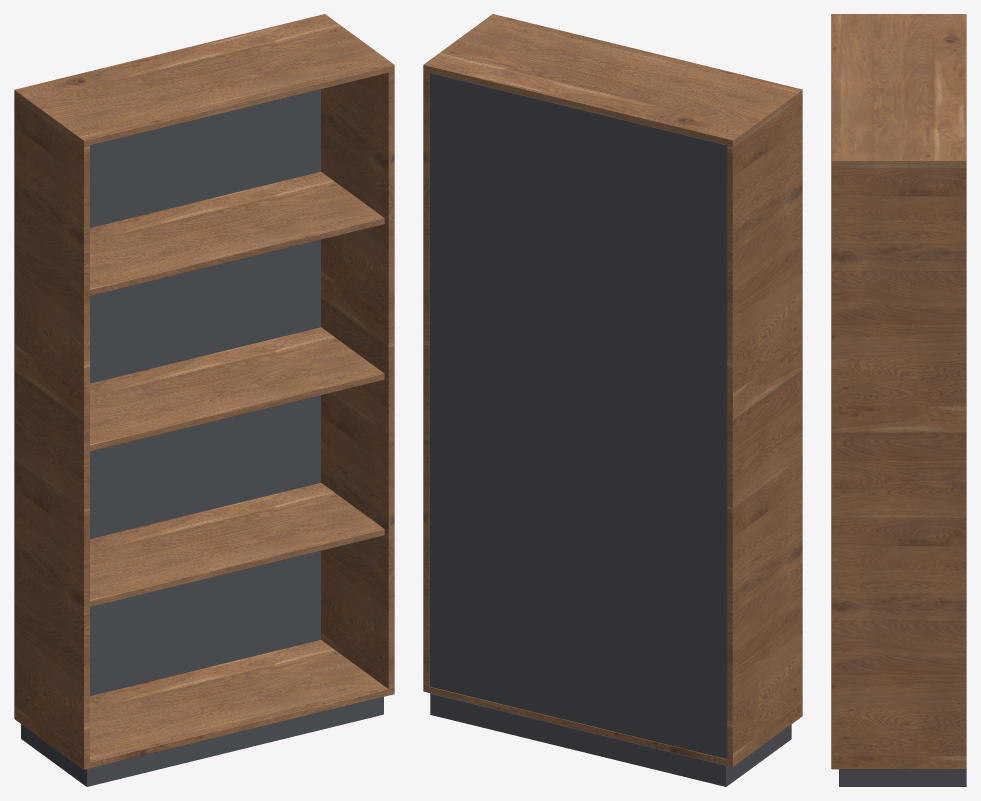
Rendered from bookcase.glb.
The picture shows the model from 3 angles, left to right: view 1: azimuth 30°, elevation 25°; view 2: azimuth 150°, elevation 25°; view 3: azimuth 270°, elevation 25°; orthographic projection. The views are drawn at different scales.
Parts seen in each view (by area): view 1: Bookcase; view 2: Bookcase; view 3: Bookcase.
Boxes of the visible parts, x1=… form: Bookcase: x1=14, y1=14, x2=394, y2=786; Bookcase: x1=423, y1=14, x2=802, y2=786; Bookcase: x1=831, y1=14, x2=966, y2=786.
Bounding box in the file's own units: 1.08 × 2.16 × 0.42.
2 materials, 1 textured.
